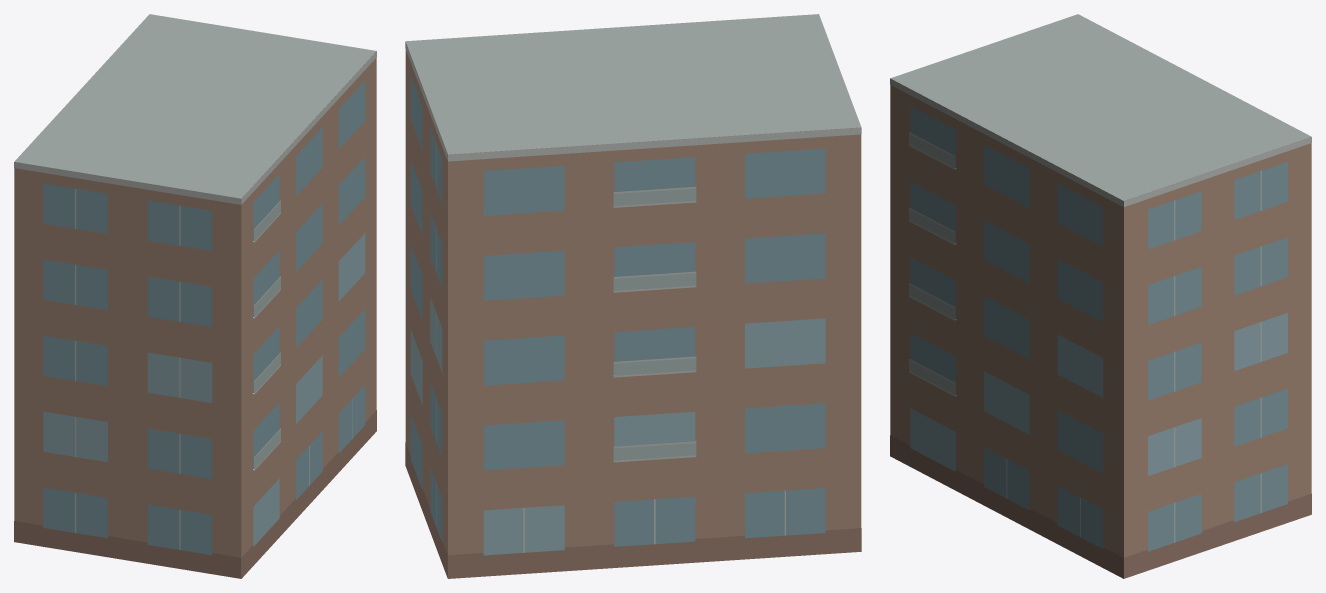
File: survey-upis-32683820.glb
The picture shows the model from 3 angles, left to right: view 1: azimuth 30°, elevation 25°; view 2: azimuth 150°, elevation 25°; view 3: azimuth 270°, elevation 25°; orthographic projection. The views are drawn at different scales.
Visible parts, largest first — view 1: survey-upis-32683820.tmp; view 2: survey-upis-32683820.tmp; view 3: survey-upis-32683820.tmp.
Part boxes in pixels (x1,y1,x2,y2): survey-upis-32683820.tmp: [14, 14, 376, 578]; survey-upis-32683820.tmp: [405, 14, 861, 578]; survey-upis-32683820.tmp: [890, 14, 1311, 578].
Bounding box in the file's own units: 15.72 × 14.8 × 14.98.
